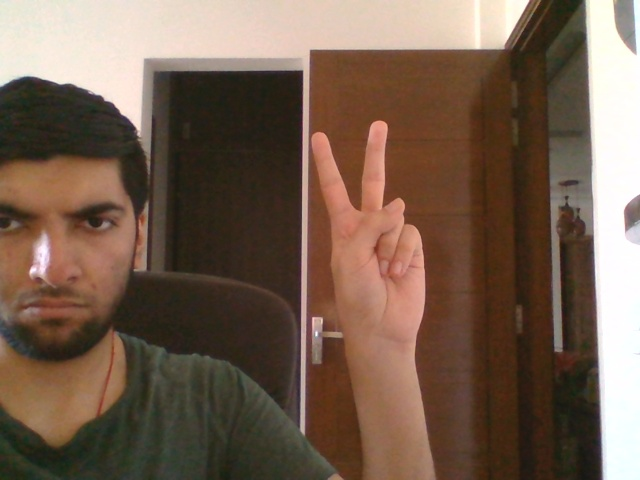LetterK: (310, 120, 426, 351)
